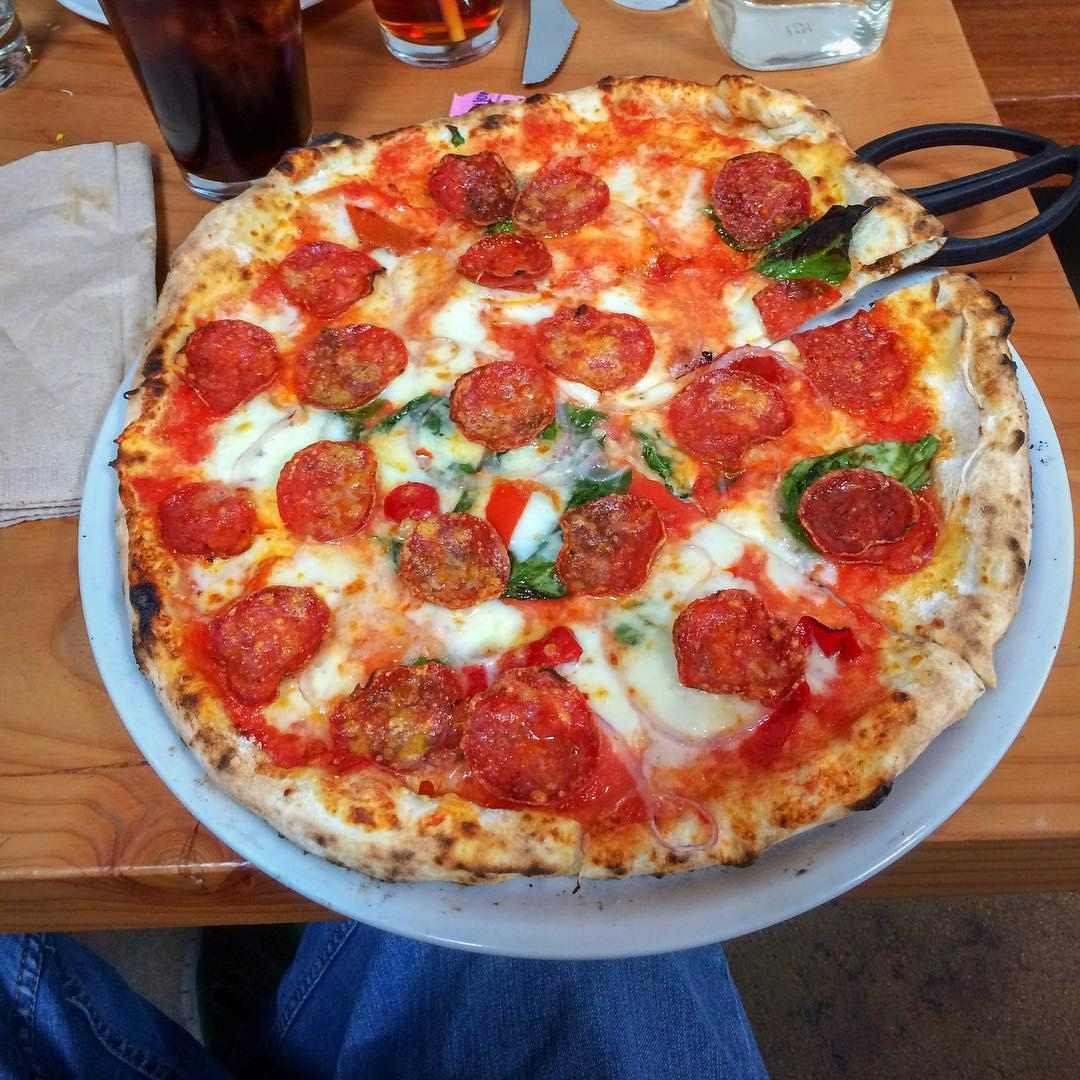Basil: (769, 434, 937, 527), (761, 204, 860, 279), (513, 525, 561, 601), (376, 394, 452, 441), (643, 443, 701, 497), (454, 448, 499, 506), (575, 465, 643, 497)
Pepperoni: (335, 670, 593, 796), (675, 590, 806, 703), (800, 473, 940, 572), (434, 156, 604, 232), (214, 592, 327, 706), (674, 369, 795, 468), (397, 513, 511, 606), (755, 282, 887, 355), (178, 323, 280, 414), (561, 501, 660, 593), (280, 443, 375, 538), (295, 327, 406, 407), (450, 363, 557, 445), (537, 318, 658, 389), (717, 153, 808, 244), (159, 483, 255, 556), (282, 243, 376, 315), (810, 355, 927, 411), (462, 234, 555, 283)
Pizza: (123, 77, 1028, 880)
